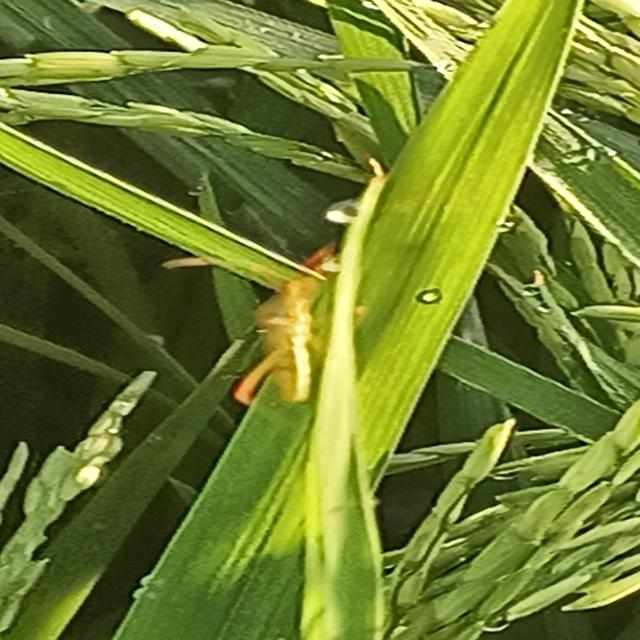green leaf hopper: (201, 239, 360, 417)
